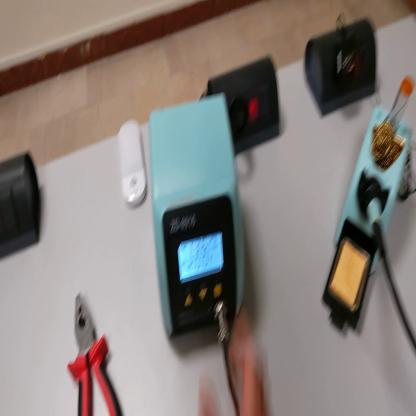hand: (197, 326, 268, 416)
pliers: (66, 299, 123, 415)
socket: (302, 15, 381, 116), (210, 54, 279, 164)
welder base: (323, 75, 416, 339)
welder probe tip: (368, 180, 386, 254)
welder station: (153, 84, 249, 333)
